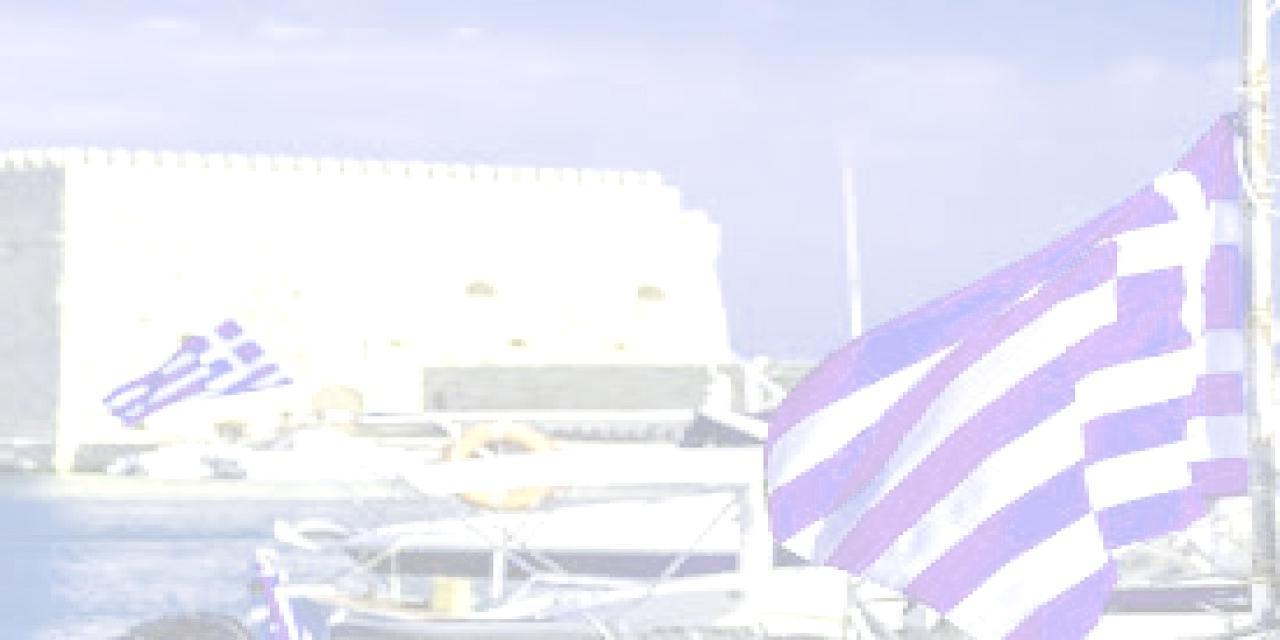Kules: (1, 150, 732, 452)
